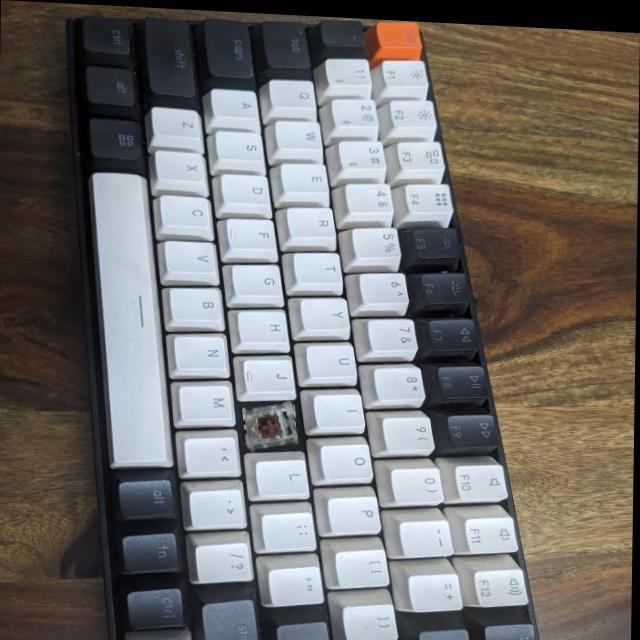key-switch: (246, 397, 298, 450)
